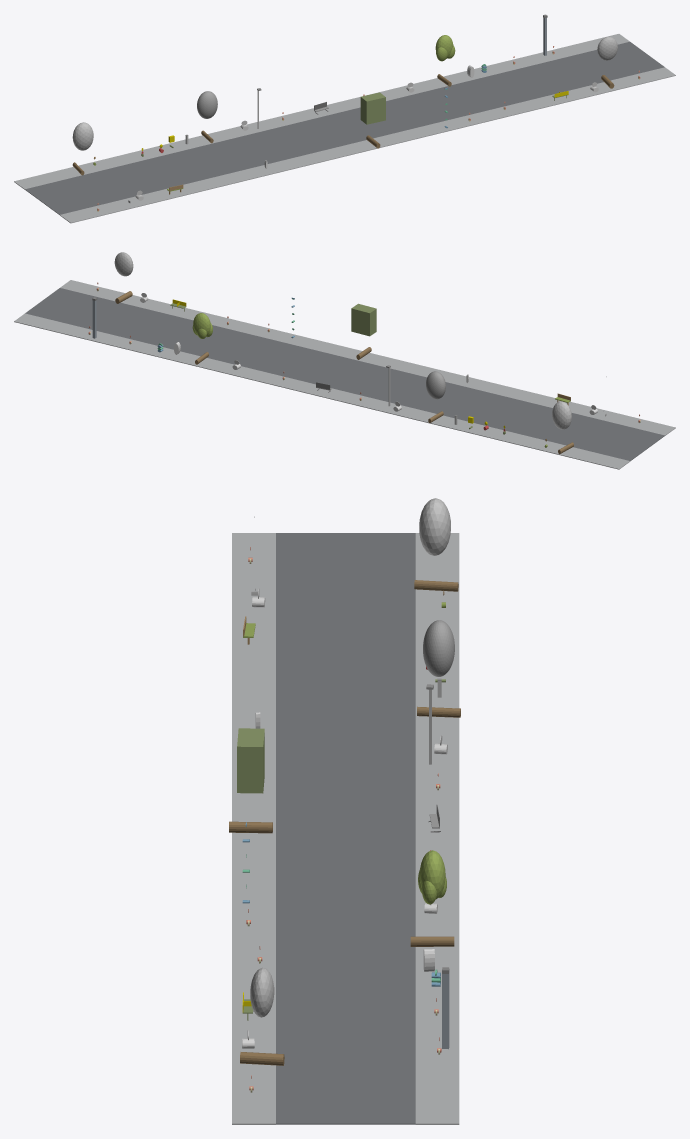
3 views of the same model, one above another, from view 1: azimuth 30°, elevation 25°; view 2: azimuth 150°, elevation 25°; view 3: azimuth 270°, elevation 25° (orthographic). The views are drawn at different scales.
Visible parts, largest first — view 1: road_slab, sidewalk_left, sidewalk_right, inst_0014, inst_0012, inst_0013, inst_0015, inst_0016; view 2: road_slab, sidewalk_right, sidewalk_left, inst_0014, inst_0012, inst_0013, inst_0015, inst_0016; view 3: road_slab, sidewalk_left, sidewalk_right, inst_0014, inst_0012, inst_0013, inst_0015, inst_0016.
Part boxes in pixels (x1,y1,x2,y2): road_slab: [25, 41, 664, 214]; sidewalk_left: [60, 67, 675, 223]; sidewalk_right: [14, 34, 629, 189]; inst_0014: [360, 92, 385, 148]; inst_0012: [72, 122, 93, 175]; inst_0013: [197, 91, 217, 143]; inst_0015: [435, 35, 455, 86]; inst_0016: [597, 36, 617, 88]; road_slab: [25, 288, 664, 461]; sidewalk_right: [14, 313, 629, 469]; sidewalk_left: [60, 280, 675, 435]; inst_0014: [351, 303, 376, 359]; inst_0012: [552, 401, 573, 454]; inst_0013: [426, 371, 445, 422]; inst_0015: [192, 313, 212, 364]; inst_0016: [114, 252, 133, 303]; road_slab: [276, 533, 415, 1124]; sidewalk_left: [232, 533, 275, 1124]; sidewalk_right: [415, 533, 459, 1124]; inst_0014: [229, 728, 272, 833]; inst_0012: [414, 498, 458, 591]; inst_0013: [417, 620, 460, 717]; inst_0015: [410, 850, 454, 946]; inst_0016: [240, 967, 284, 1065].
Bounding box in the file's own units: 80 × 6.08 × 13.28.
